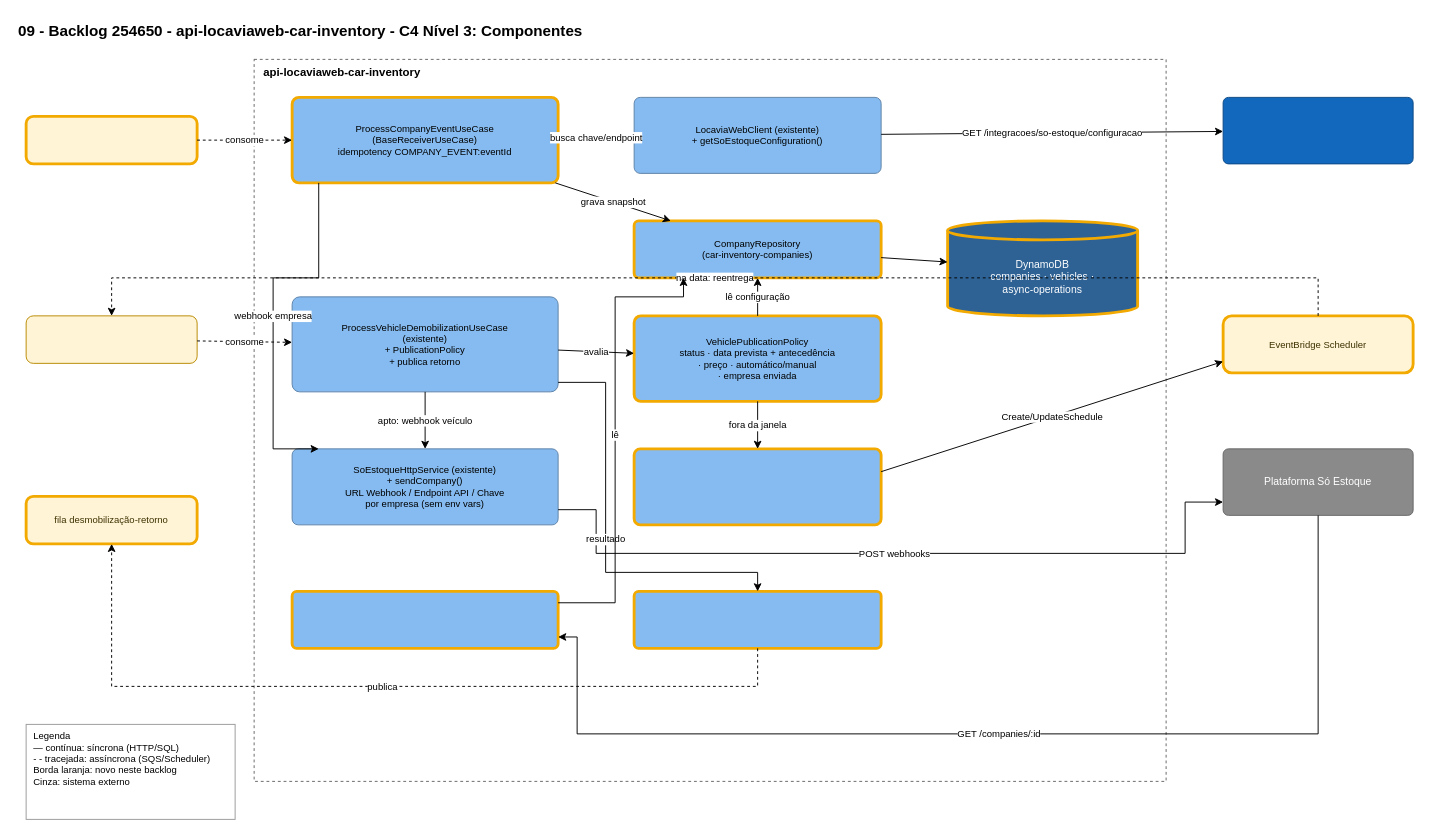
The diagram is 1431 pixels wide and 836 high, and some of its shapes have lost their labels. The shapes that lost their labels are listed below. From the top down, each one's centre as x and y in pixels, then its label:
[111,139]: fila empresas
[1317,130]: api-locavia-web-ts
[111,339]: fila desmobilização
[757,486]: PublicationWindowScheduler (EventBridge Scheduler one-time, nome por veículo)
[424,619]: CompaniesController GET /companies/:id
[757,619]: DemobilizationReturnPublisher (SQS)
